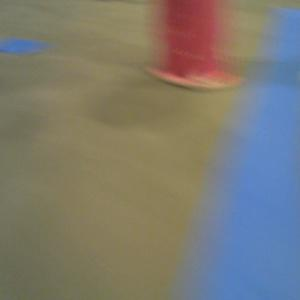right: (148, 1, 244, 88)
